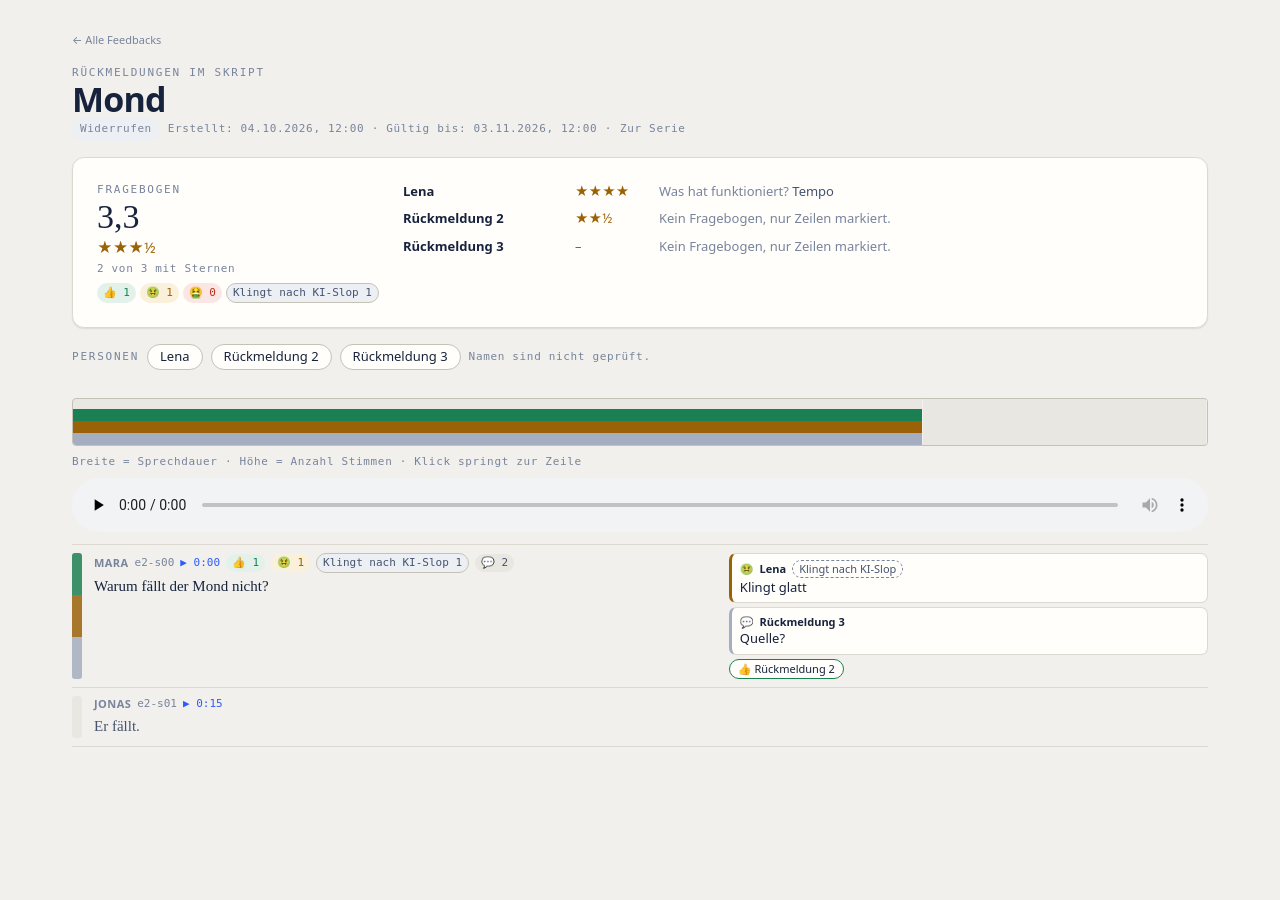
Test: SharedFeedbackView › summarises the questionnaire and filters people everywhere
expect the text with class "average" reads "3,3": met, box [97,198,140,235]
expect the element that starts with "Fragebogen" shows "2 von 3 mit Sternen": met, box [97,262,235,275]
Click the button "Lena": (175, 357) [147,344,203,370]
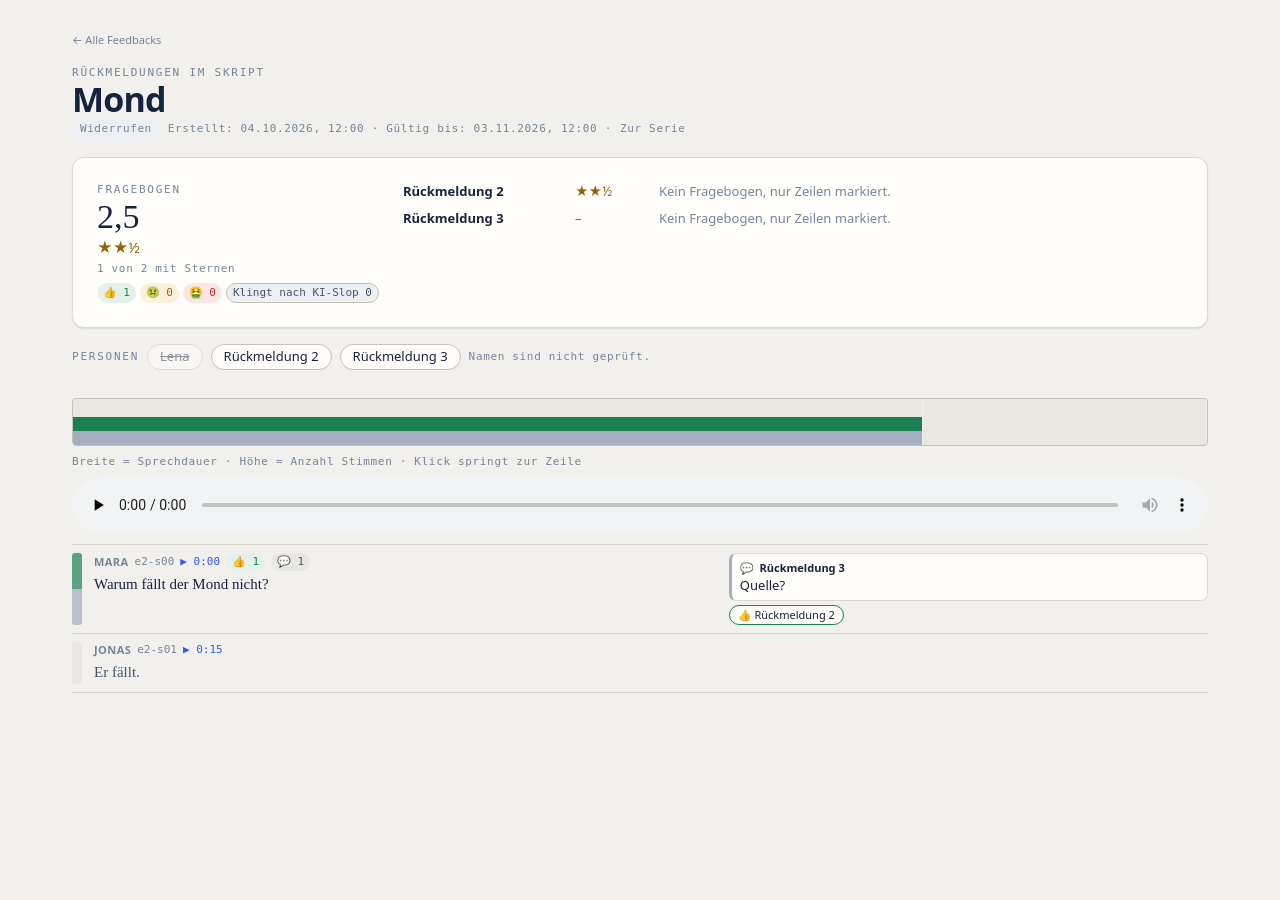
expect the text with class "average" reads "2,5": met, box [97,198,140,235]
expect the element with class "head" no longer shows "🤢": met
